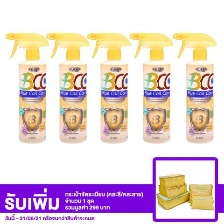cleaning_solution: (83, 29, 132, 146), (43, 28, 92, 145), (171, 29, 218, 146), (3, 28, 50, 145), (127, 30, 173, 145)
